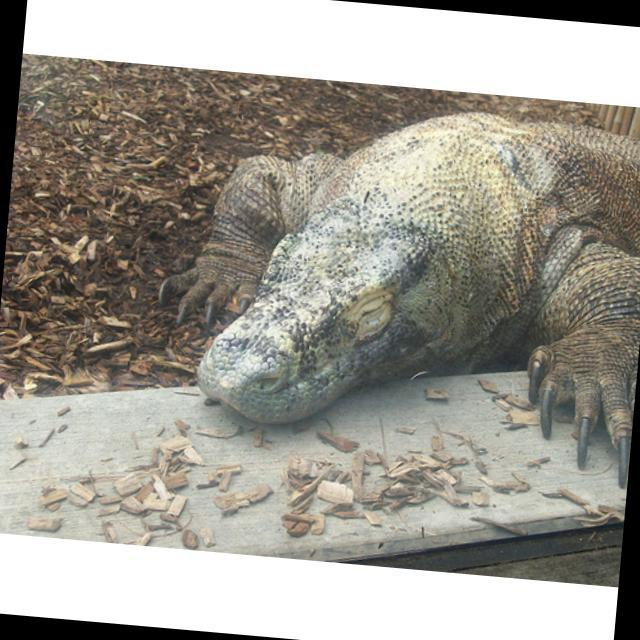KomodoDragon: (137, 83, 640, 484)
